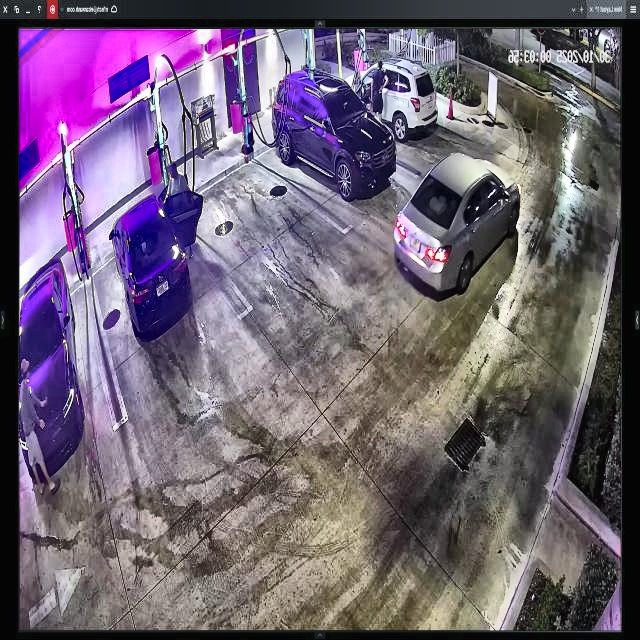Car: (392, 153, 523, 294), (274, 64, 399, 200), (110, 171, 199, 340)
